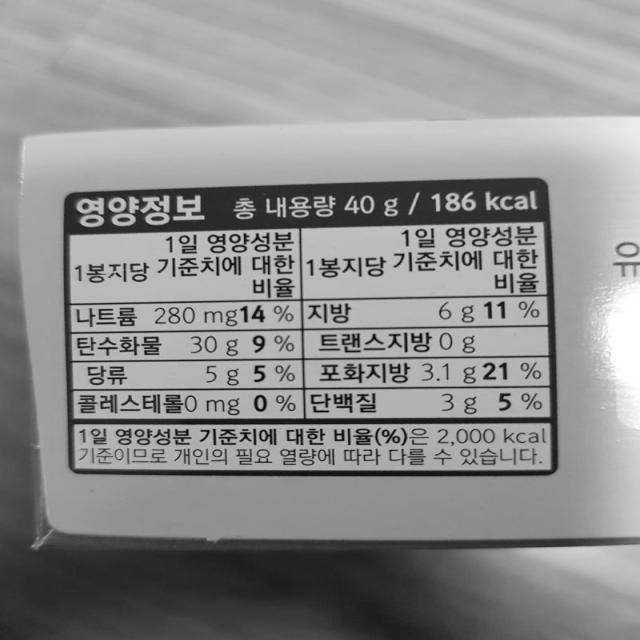Nutrition Label: (50, 171, 573, 488)
